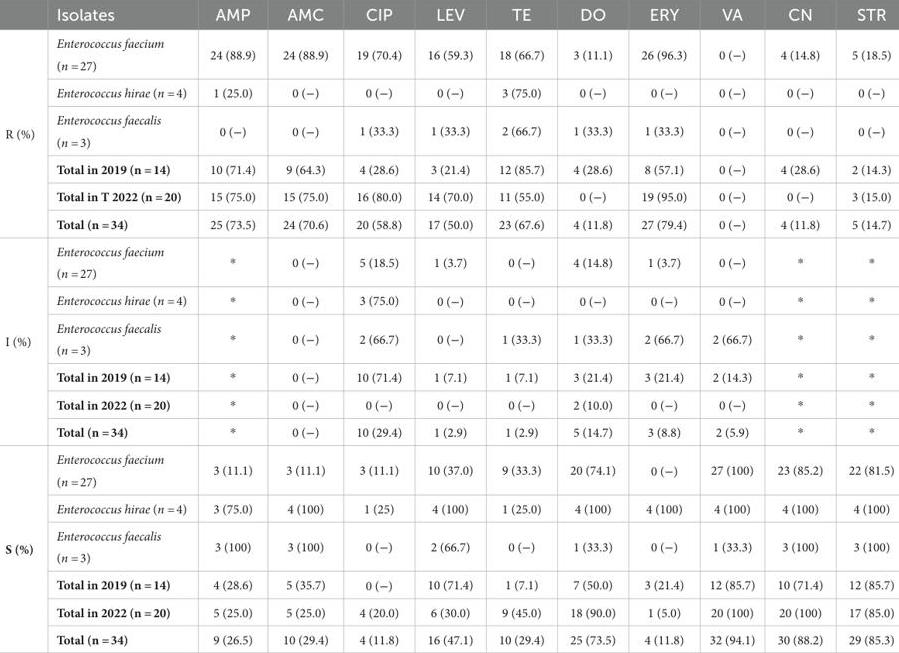table: (4, 5, 893, 647)
table column: (45, 5, 197, 647), (268, 5, 341, 647), (341, 5, 414, 647), (556, 5, 628, 647), (197, 5, 268, 647), (414, 5, 485, 647), (485, 5, 556, 647), (765, 5, 835, 647), (628, 5, 697, 647), (697, 5, 765, 647), (835, 5, 893, 647), (4, 5, 45, 647)
table column header: (4, 5, 893, 29)
table row: (4, 29, 893, 78), (4, 106, 893, 155), (4, 314, 893, 363), (4, 521, 893, 570), (4, 238, 893, 286), (4, 446, 893, 494), (4, 78, 893, 106), (4, 155, 893, 183), (4, 210, 893, 238), (4, 286, 893, 314), (4, 363, 893, 391), (4, 418, 893, 446), (4, 570, 893, 598), (4, 183, 893, 210), (4, 391, 893, 418), (4, 494, 893, 521), (4, 598, 893, 625), (4, 5, 893, 29), (4, 625, 893, 647)
table spanning cell: (4, 29, 45, 238), (4, 238, 45, 446), (4, 446, 45, 647)
